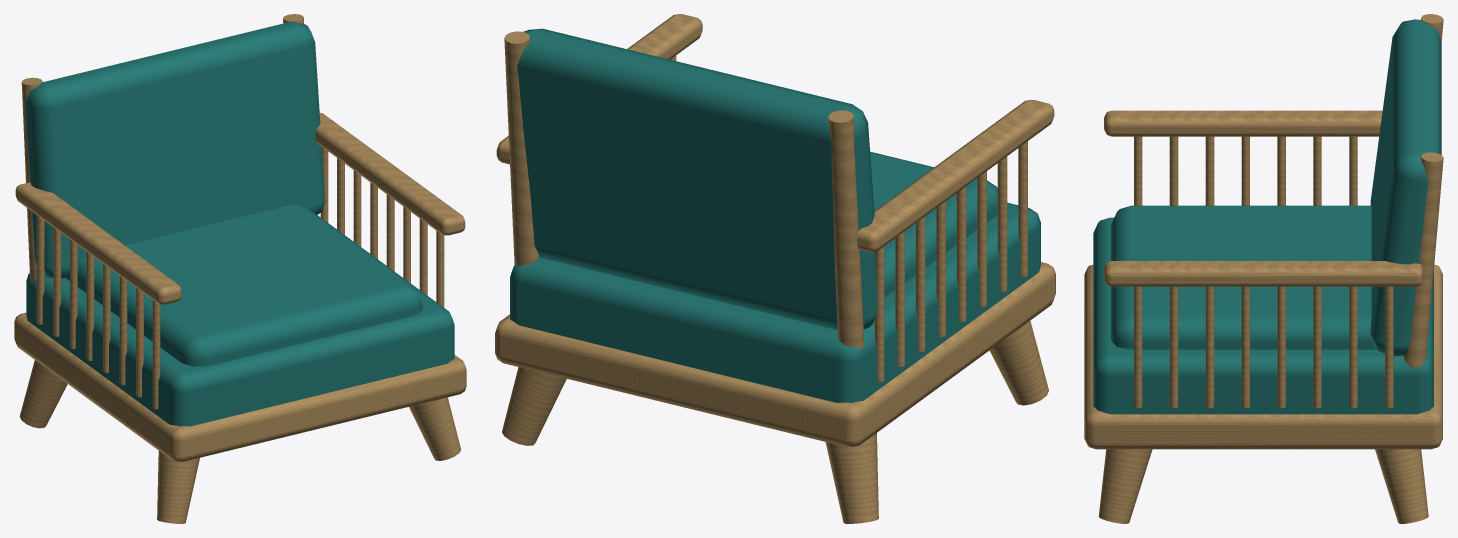
The model's file is club_chair_veranda-c986449b3db7.glb.
The picture shows the model from 3 angles, left to right: view 1: azimuth 30°, elevation 25°; view 2: azimuth 150°, elevation 25°; view 3: azimuth 270°, elevation 25°; orthographic projection. The views are drawn at different scales.
Parts seen in each view (by area): view 1: surface_teal, surface_bamboo; view 2: surface_teal, surface_bamboo; view 3: surface_teal, surface_bamboo.
Boxes of the visible parts, box(x1,y1,x2,y2) form: surface_teal: box(25, 21, 454, 426); surface_bamboo: box(14, 14, 466, 523); surface_teal: box(510, 28, 1040, 402); surface_bamboo: box(495, 14, 1055, 523); surface_teal: box(1093, 19, 1441, 414); surface_bamboo: box(1084, 14, 1443, 523).
Bounding box in the file's own units: 0.8179 × 0.8535 × 0.7611.
2 materials, 1 textured.
